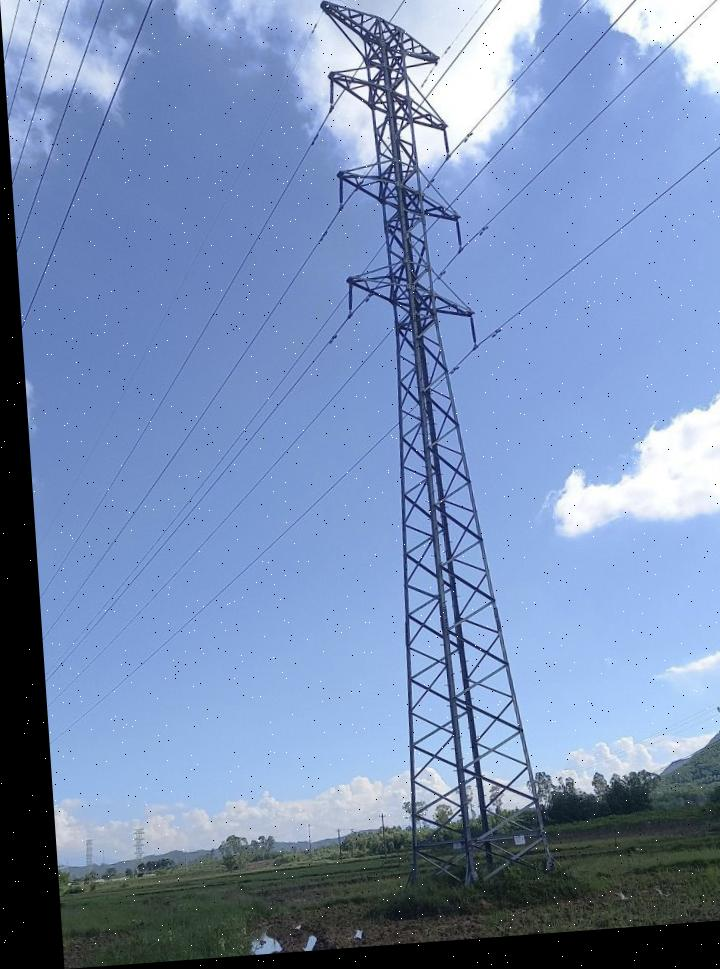tower: (318, 0, 559, 899)
